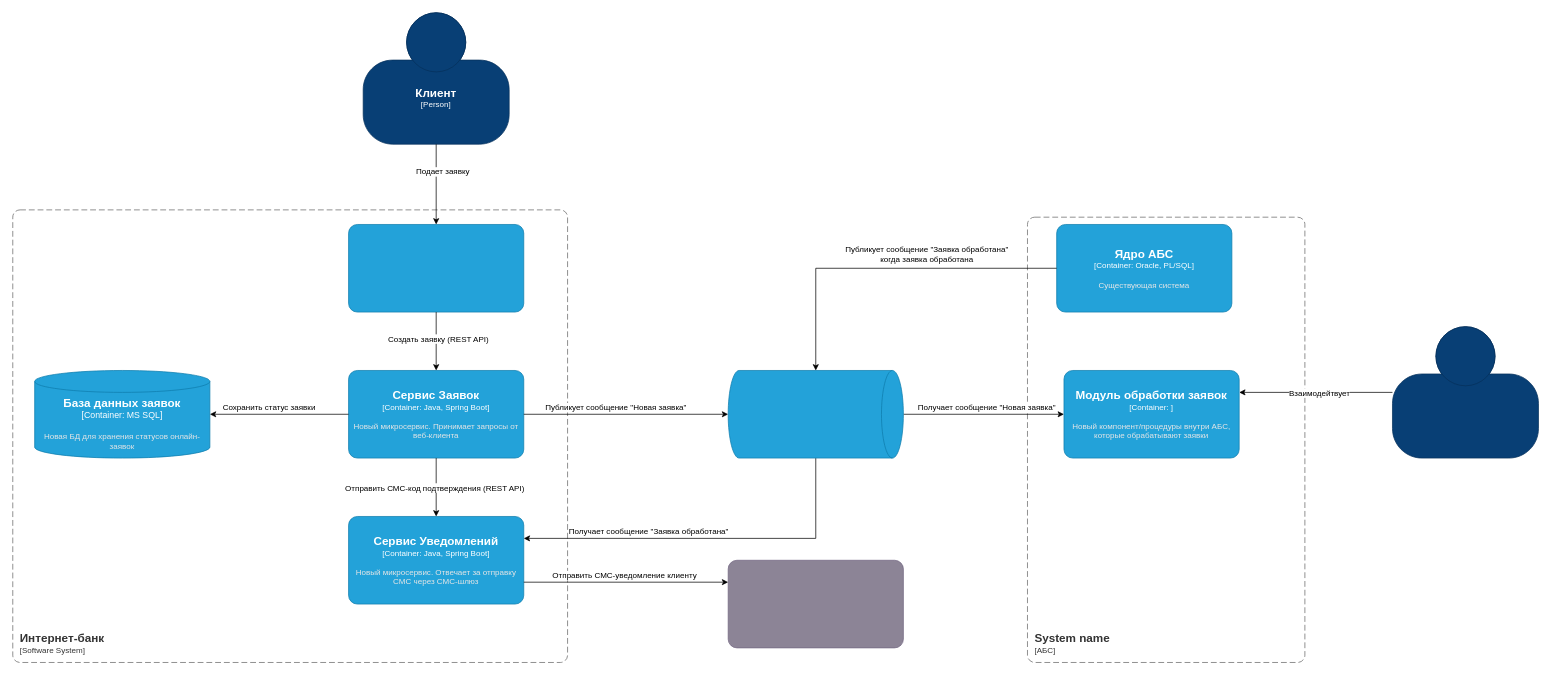
The diagram is 1551 pixels wide and 675 high, and some of its shapes have lost their labels. The centre of each missing label's shape, as x and y in pixels:
Apache Kafka [Container: Apache Kafka] брокер сообщений: the point at 815,414
Веб-клиент [Container: ASP.NET MVC] Существующий фронтенд: the point at 436,268
СМС-шлюз [Software System]: the point at 815,604
Сотрудник бэк-офиса [Person]: the point at 1465,392
